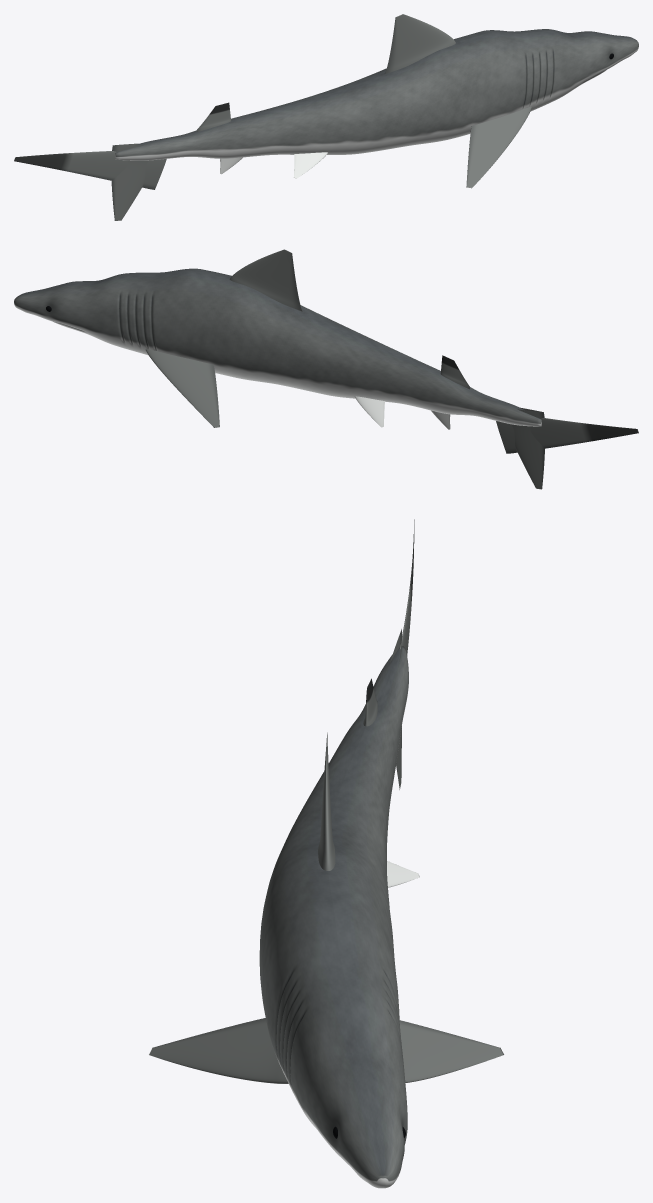
Rendered from atlantic_sharpnose_shark.glb.
3 views of the same model, one above another, from view 1: azimuth 30°, elevation 25°; view 2: azimuth 150°, elevation 25°; view 3: azimuth 270°, elevation 25° (orthographic). The views are drawn at different scales.
Parts seen in each view (by area): view 1: atlantic_sharpnose_shark_Body, atlantic_sharpnose_shark_Fins; view 2: atlantic_sharpnose_shark_Body, atlantic_sharpnose_shark_Fins; view 3: atlantic_sharpnose_shark_Body, atlantic_sharpnose_shark_Fins.
Part boxes in pixels (x1,y1,x2,y2): atlantic_sharpnose_shark_Body: (115, 29, 638, 160); atlantic_sharpnose_shark_Fins: (14, 14, 531, 220); atlantic_sharpnose_shark_Body: (14, 268, 541, 426); atlantic_sharpnose_shark_Fins: (145, 249, 638, 489); atlantic_sharpnose_shark_Body: (259, 646, 408, 1188); atlantic_sharpnose_shark_Fins: (149, 519, 503, 1083).
Bounding box in the file's own units: 0.95 × 0.2292 × 0.2372.
3 materials, 1 textured.
